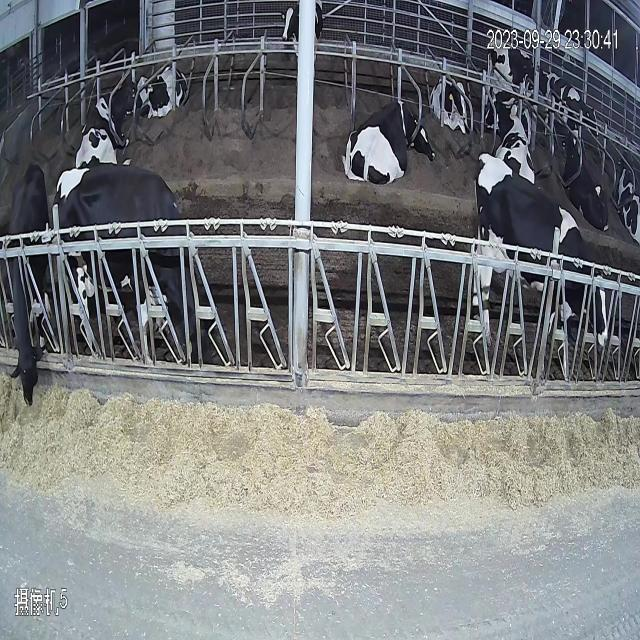feeding: (464, 152, 614, 388), (0, 142, 55, 436)
lying down: (339, 90, 438, 204), (480, 90, 540, 200), (560, 122, 612, 234), (74, 82, 132, 164), (132, 66, 203, 123), (428, 61, 474, 145), (615, 140, 640, 252)
standing: (478, 28, 540, 108), (281, 0, 337, 79)
